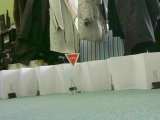stop: (64, 52, 81, 69)
